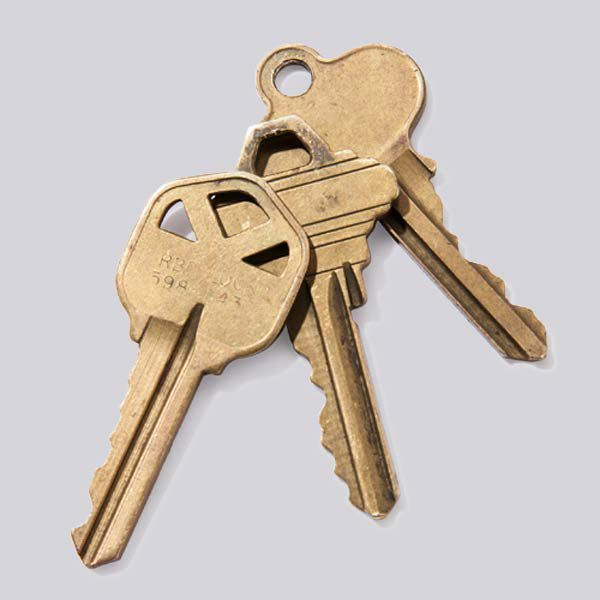key: (53, 32, 556, 571)
